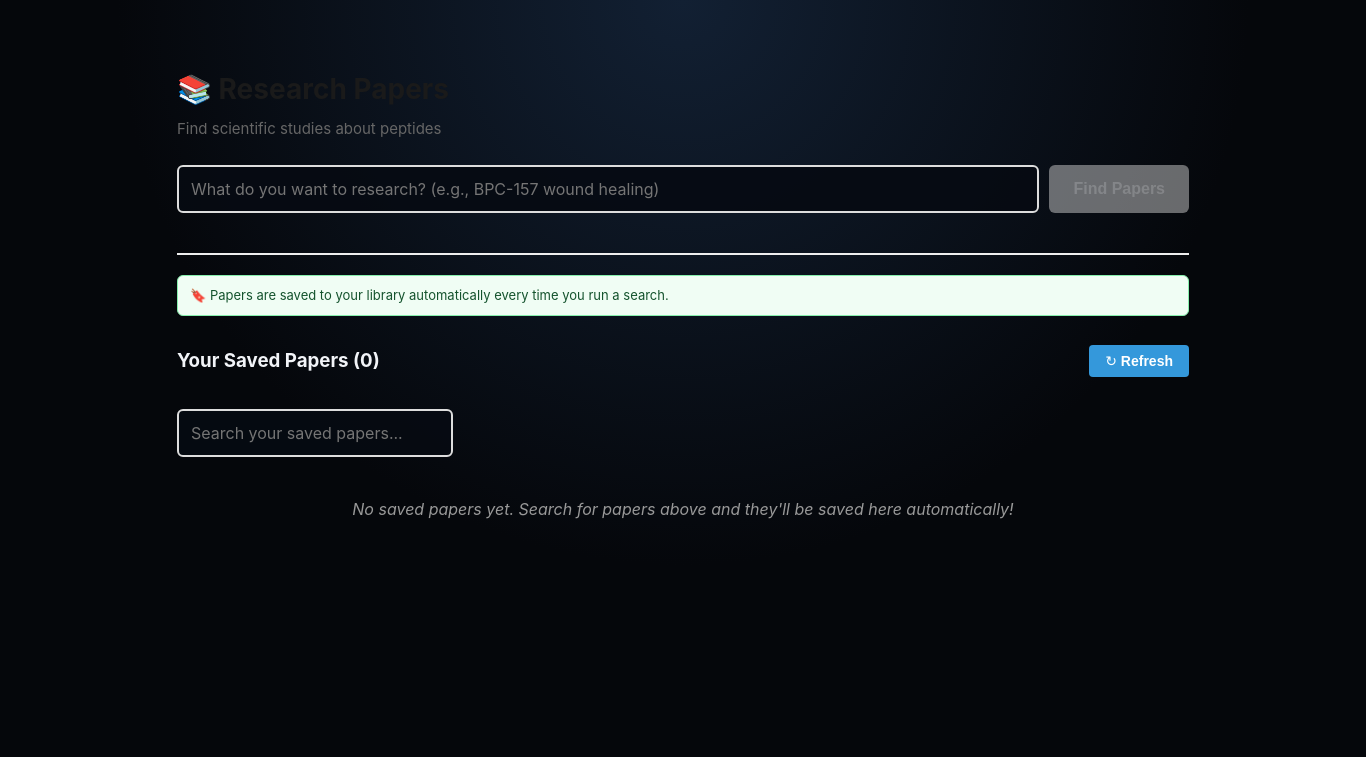
it: LiteratureSearch Component › shows loading state while searching
Type "BPC-157" into the field with id "literature-search-input" at (608, 188), box left=177, top=164, right=1039, bottom=212
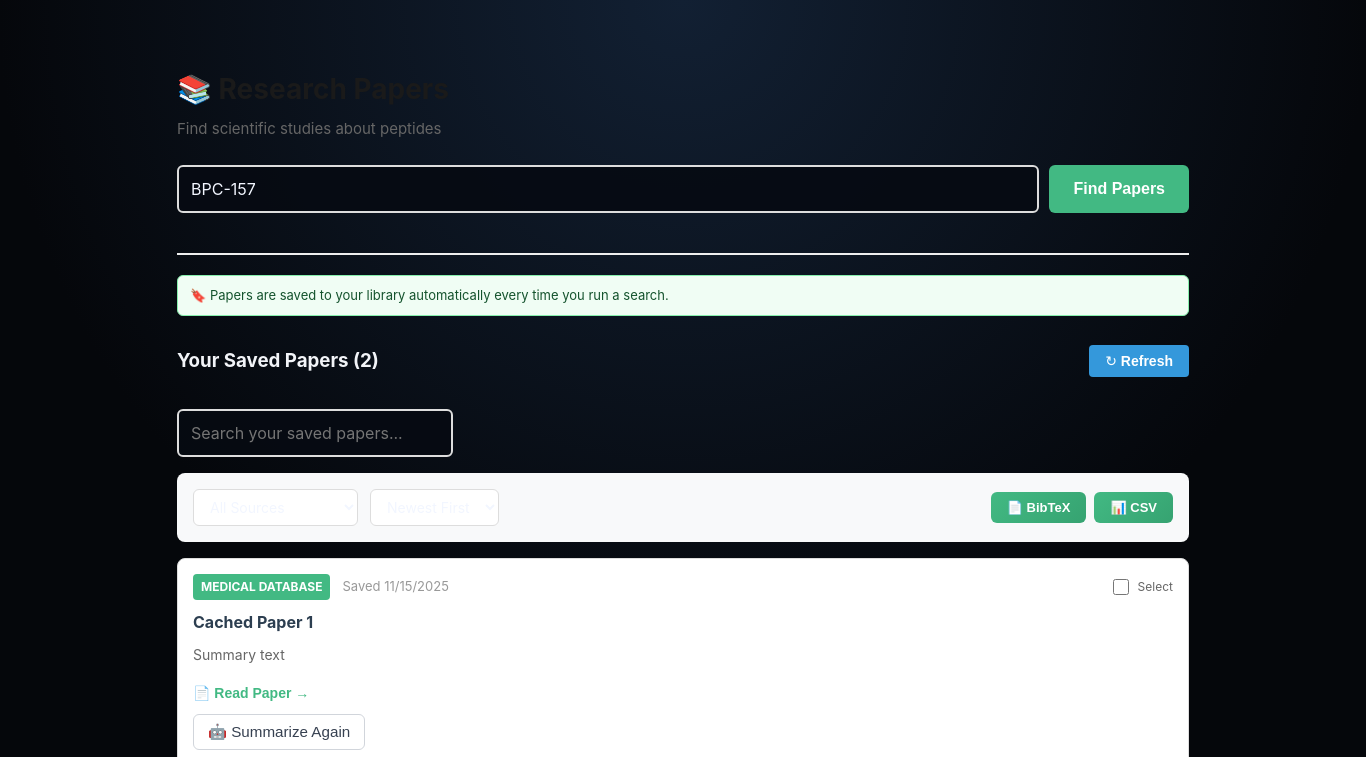
Click the button with class "search-btn" at (1119, 188), box left=1049, top=164, right=1189, bottom=212
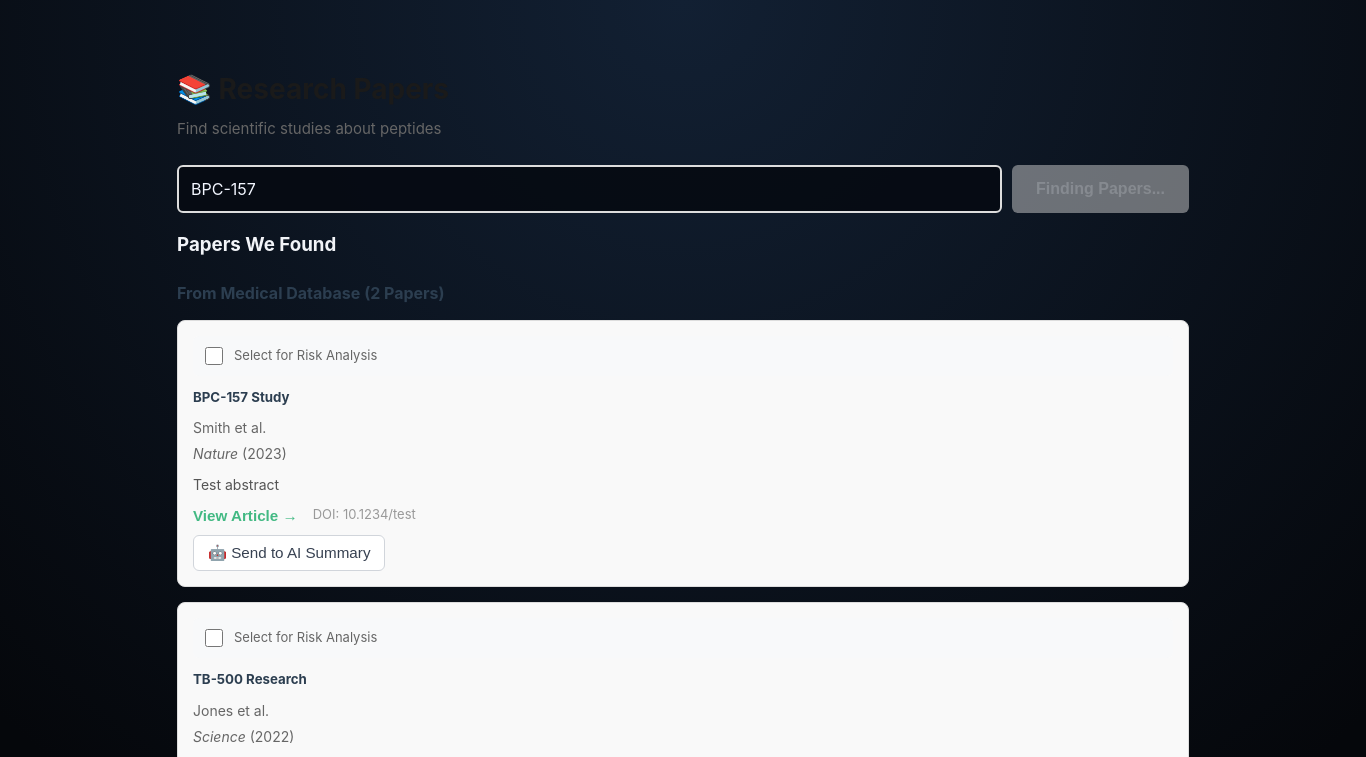
Result: the button with class "search-btn" reads "Finding Papers..." at left=1012, top=164, right=1189, bottom=212
